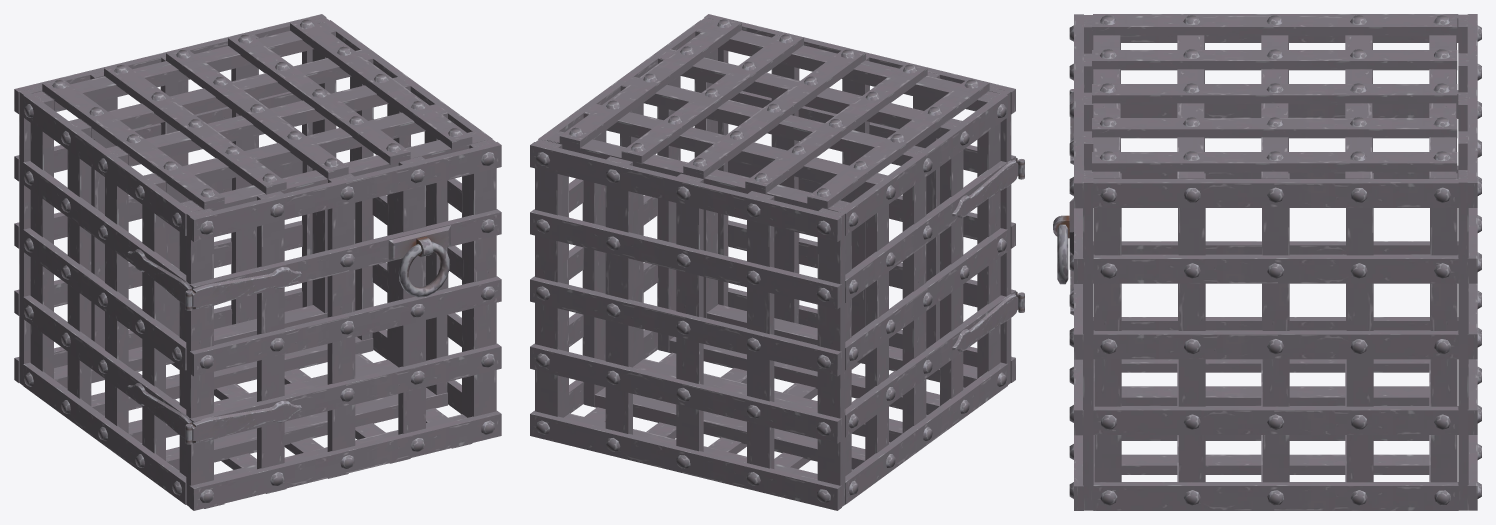
Rendered from fp_cage.glb.
3 renders of one model, left to right at view 1: azimuth 30°, elevation 25°; view 2: azimuth 150°, elevation 25°; view 3: azimuth 270°, elevation 25°, orthographic. The views are drawn at different scales.
Visible parts, largest first — view 1: Cage_Small; view 2: Cage_Small; view 3: Cage_Small.
Boxes of the visible parts, bbox=[...] form: Cage_Small: bbox=[14, 14, 501, 510]; Cage_Small: bbox=[530, 14, 1024, 510]; Cage_Small: bbox=[1053, 14, 1481, 510].
Size of the model in its own units: 0.8549 by 0.8052 by 0.8843.
Materials: 1 (1 with a texture image).
